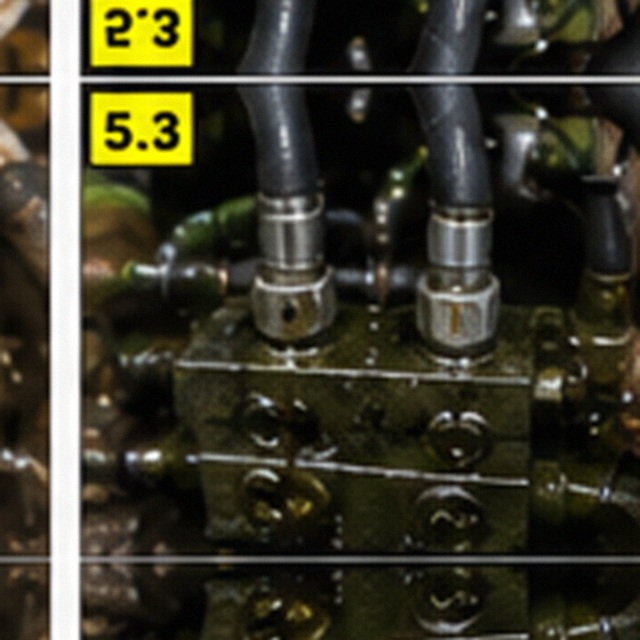hydraulic_oil_leak: (195, 216, 451, 463)
